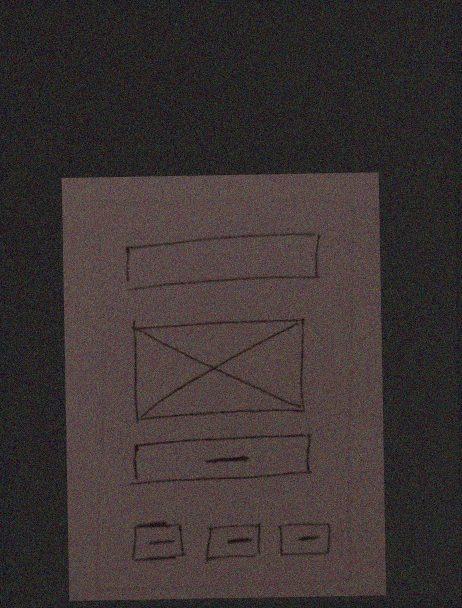button: (123, 429, 319, 487), (124, 516, 191, 565), (198, 520, 266, 566), (274, 514, 339, 562)
image: (123, 312, 324, 428)
text_input: (114, 220, 325, 294)
